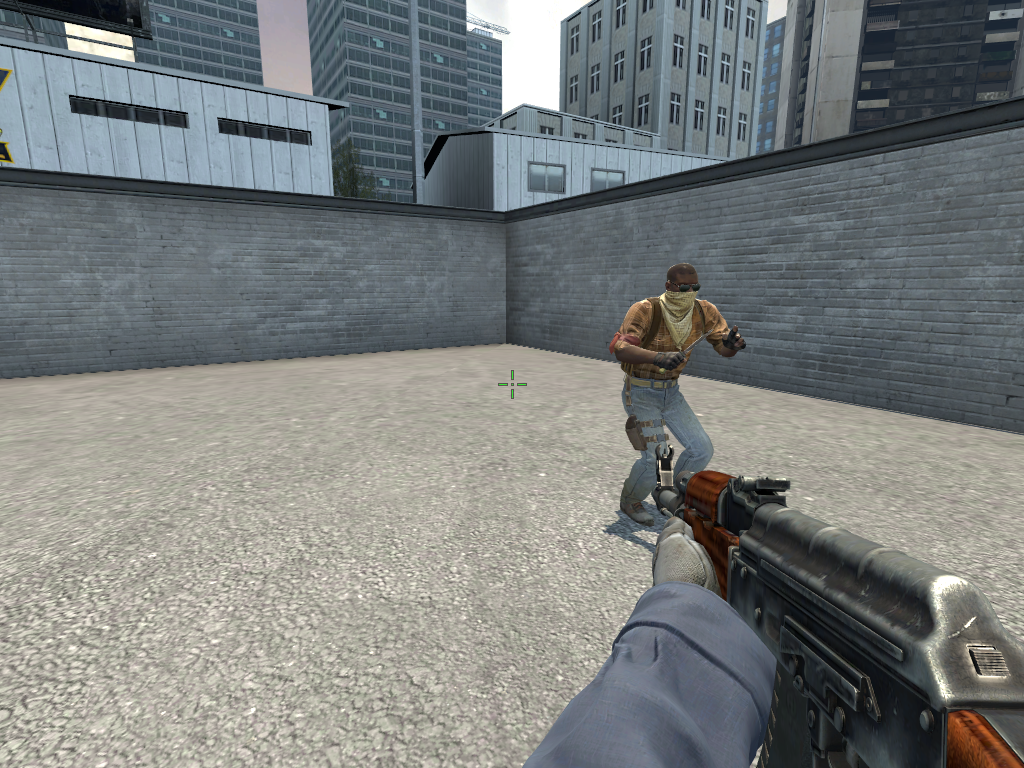tr head: (657, 259, 704, 320)
